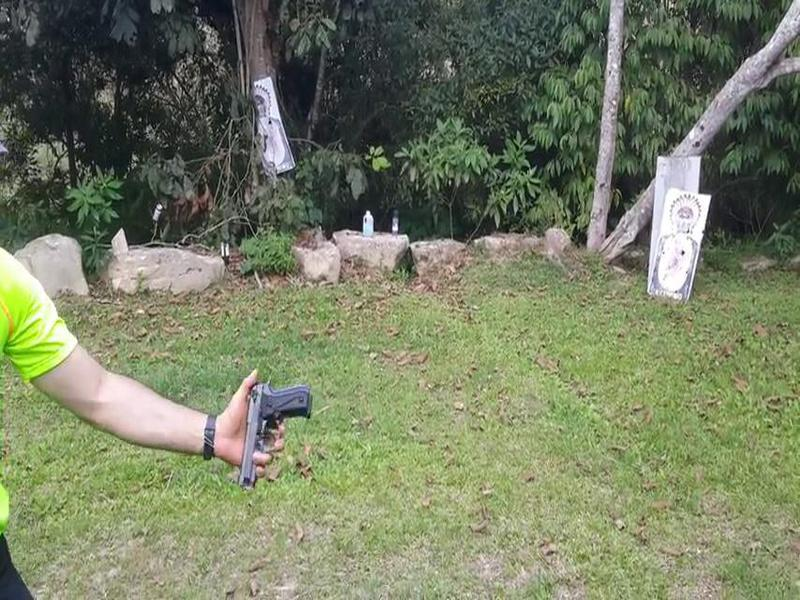Pistola: (228, 368, 323, 490)
